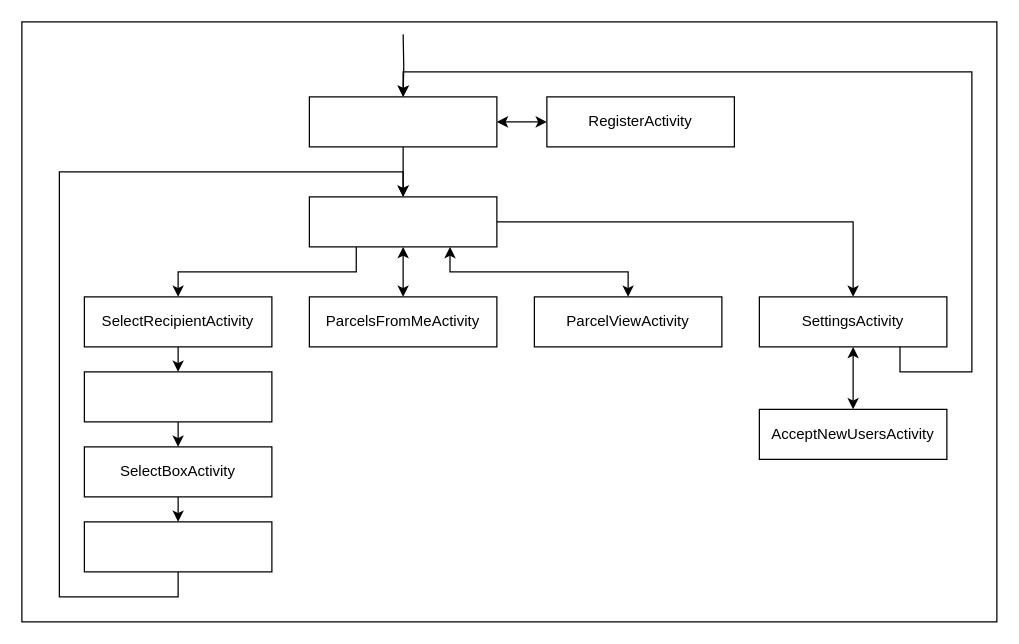
This 1019x644 diagram has some shape labels left out. Each missing label, with the centre of its shape:
AddNewActivity: point 177,546
LoginActivity: point 402,121
MainActivity: point 402,221
SelectLockerActivity: point 177,396
